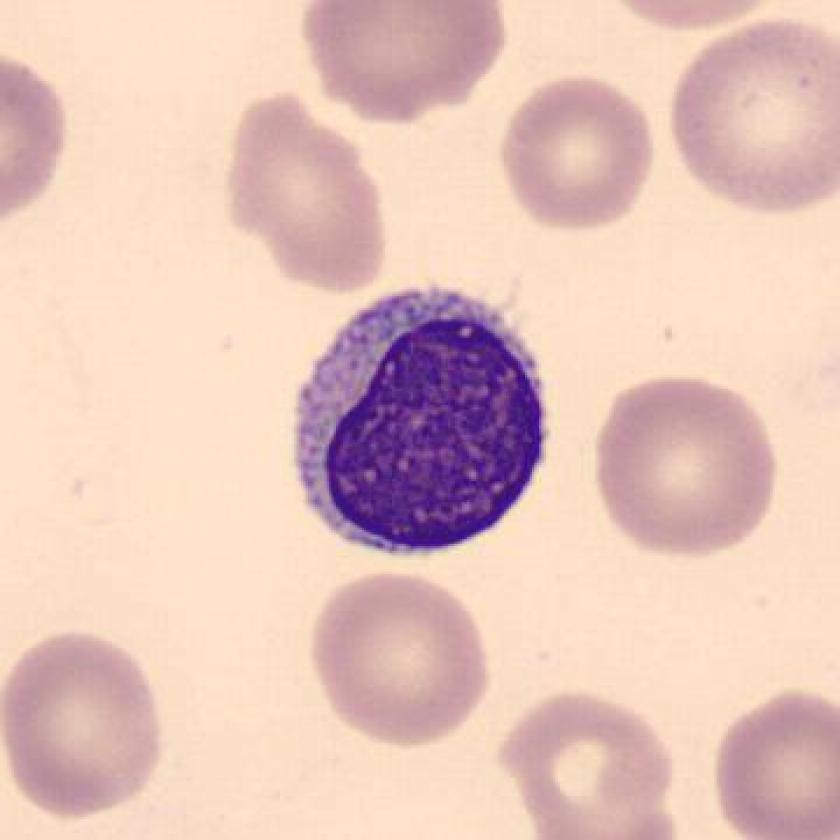lymphocyte: (277, 274, 571, 570)
